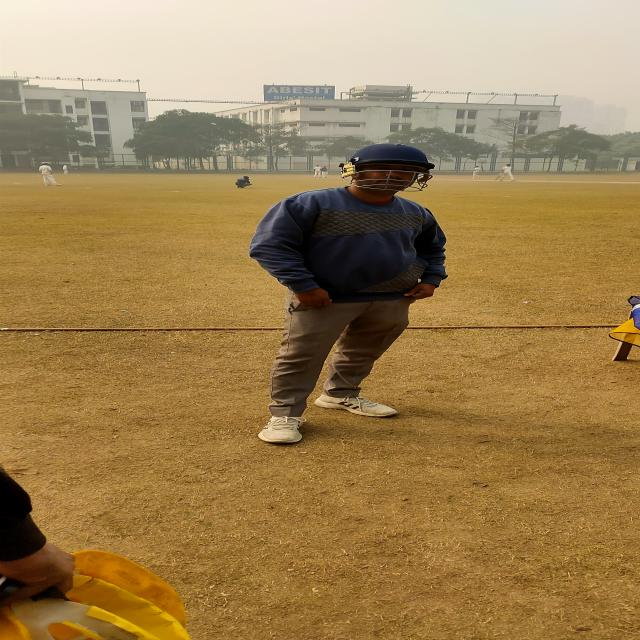unsafe: (244, 141, 448, 446)
